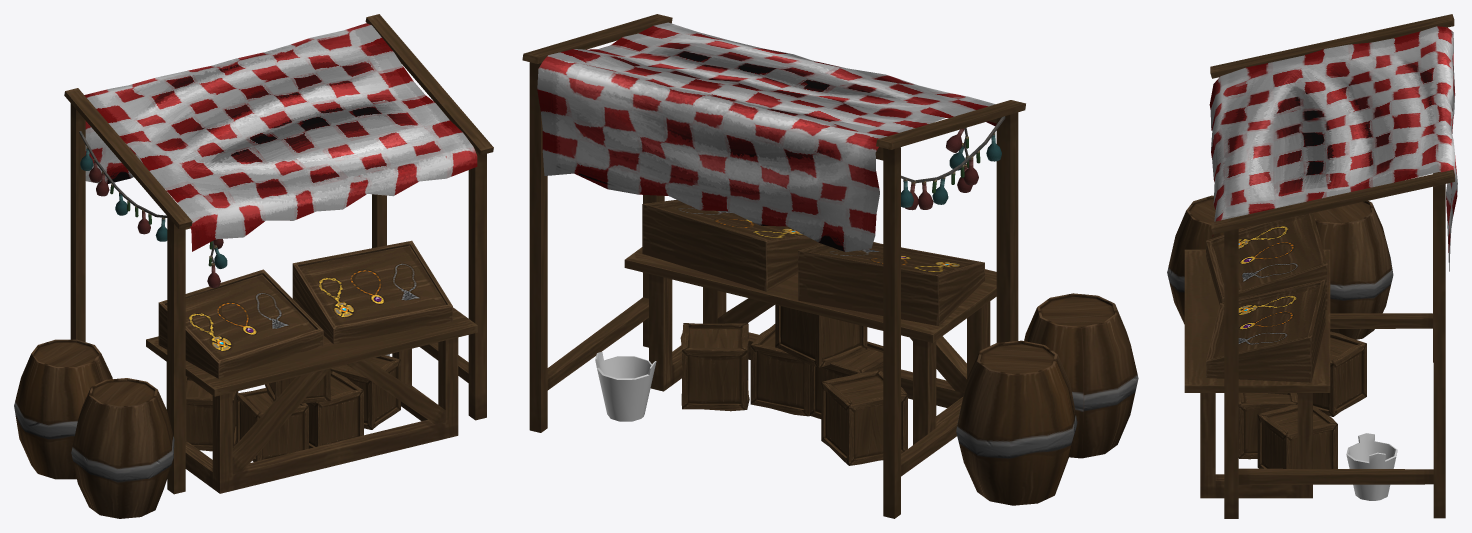
The model's file is TraderStall_Geo.fbx.
The picture shows the model from 3 angles, left to right: view 1: azimuth 30°, elevation 25°; view 2: azimuth 150°, elevation 25°; view 3: azimuth 270°, elevation 25°; orthographic projection. The views are drawn at different scales.
Parts seen in each view (by area): view 1: Stall04_Geo, Stall02_Geo, StallBarrels_Geo, Stall01_Geo, StallDisplay02_Geo, StallDisplay01_Geo, StallCrate_Geo, StallHealthPotion_Geo, StallManaPotion_Geo; view 2: Stall04_Geo, StallBarrels_Geo, Stall01_Geo, StallCrate_Geo, Stall02_Geo, StallDisplay01_Geo, StallDisplay02_Geo, StallBucket_Geo, StallHealthPotion_Geo, StallManaPotion_Geo; view 3: Stall04_Geo, Stall01_Geo, Stall02_Geo, StallBarrels_Geo, StallDisplay02_Geo, StallCrate_Geo, StallDisplay01_Geo, StallBucket_Geo.
Boxes of the visible parts, x1,y1,x2,y2 form: Stall04_Geo: (84, 23, 477, 251); Stall02_Geo: (146, 307, 477, 493); StallBarrels_Geo: (14, 339, 174, 518); Stall01_Geo: (64, 14, 493, 494); StallDisplay02_Geo: (292, 240, 452, 344); StallDisplay01_Geo: (158, 269, 323, 378); StallCrate_Geo: (186, 355, 400, 461); StallHealthPotion_Geo: (89, 158, 223, 287); StallManaPotion_Geo: (80, 146, 227, 268); Stall04_Geo: (537, 22, 996, 252); StallBarrels_Geo: (956, 293, 1138, 505); Stall01_Geo: (522, 14, 1025, 518); StallCrate_Geo: (680, 304, 907, 465); Stall02_Geo: (624, 242, 996, 444); StallDisplay01_Geo: (798, 242, 984, 325); StallDisplay02_Geo: (642, 199, 820, 291); StallBucket_Geo: (595, 352, 656, 421); StallHealthPotion_Geo: (905, 128, 978, 210); StallManaPotion_Geo: (901, 132, 1001, 207); Stall04_Geo: (1209, 26, 1457, 271); Stall01_Geo: (1210, 14, 1454, 518); Stall02_Geo: (1184, 249, 1330, 498); StallBarrels_Geo: (1167, 195, 1393, 339); StallDisplay02_Geo: (1206, 279, 1325, 382); StallCrate_Geo: (1238, 331, 1366, 468); StallDisplay01_Geo: (1206, 213, 1327, 309); StallBucket_Geo: (1346, 433, 1397, 500).
Bounding box in the file's own units: 328 × 247 × 189.
